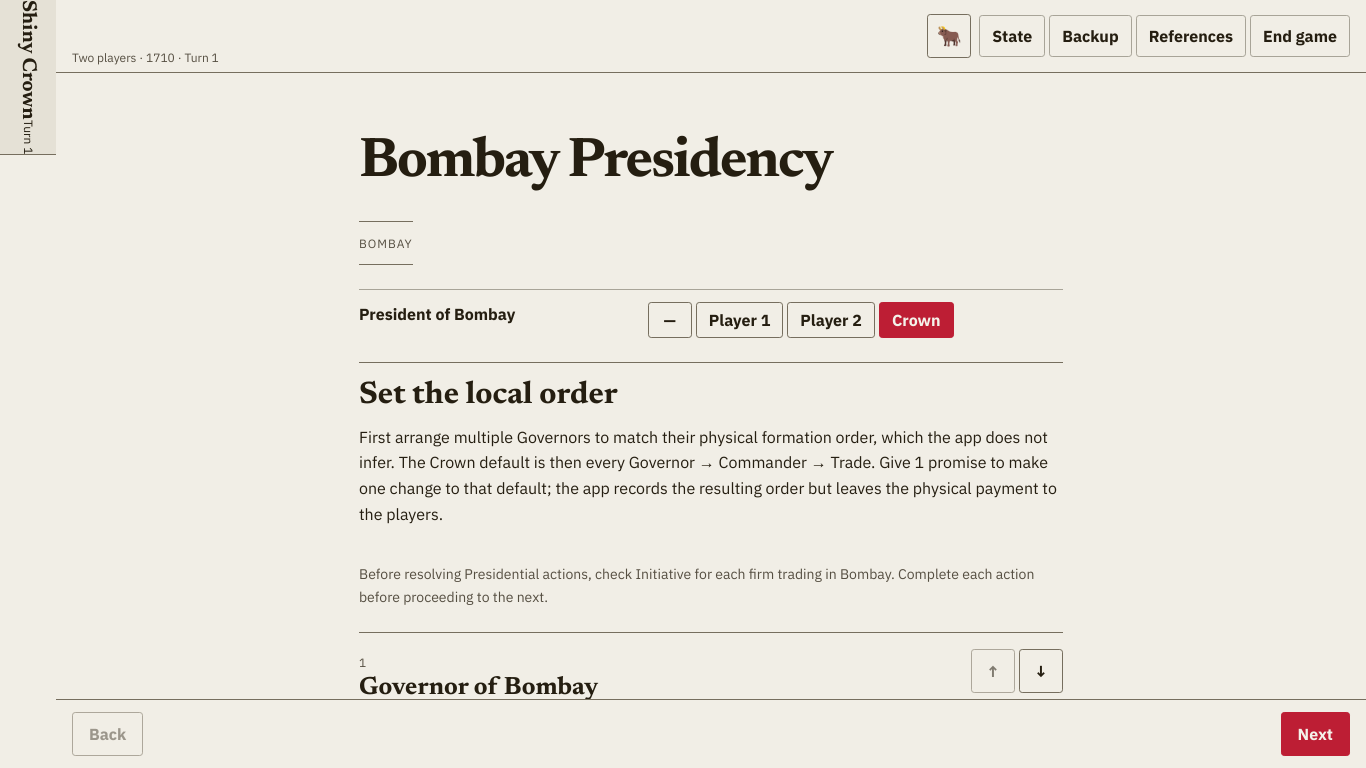
Scenario: Session 3 representative slices › persists Bombay local order and updates every Crown action from global climate
What coordinates should you click on to do the following:
click the button named "Move Governor of Bombay later"
I would click on:
 (1041, 671)
Its box is [1019,649,1063,693].
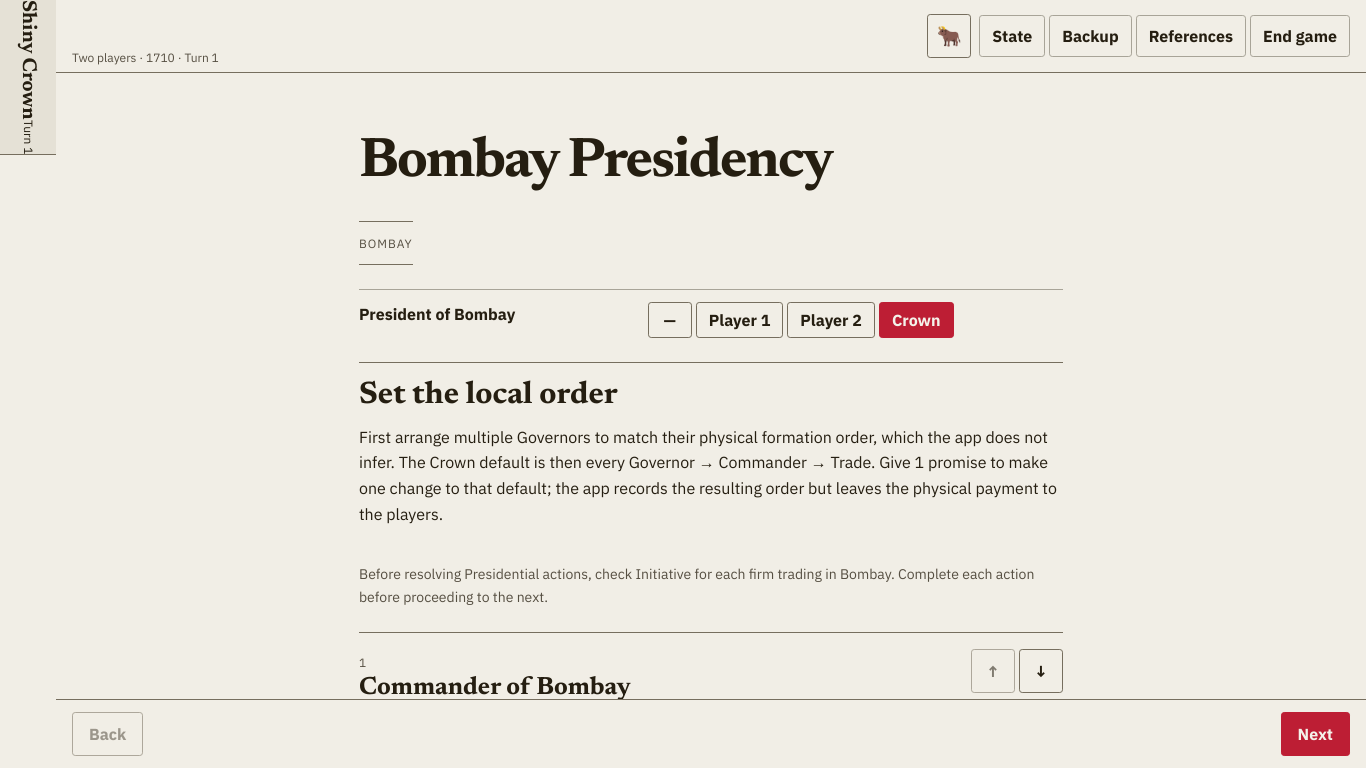
What coordinates should you click on to do the following:
click the button named "Crown climate: Bull"
I would click on:
 (949, 36)
Its box is [927,14,971,58].
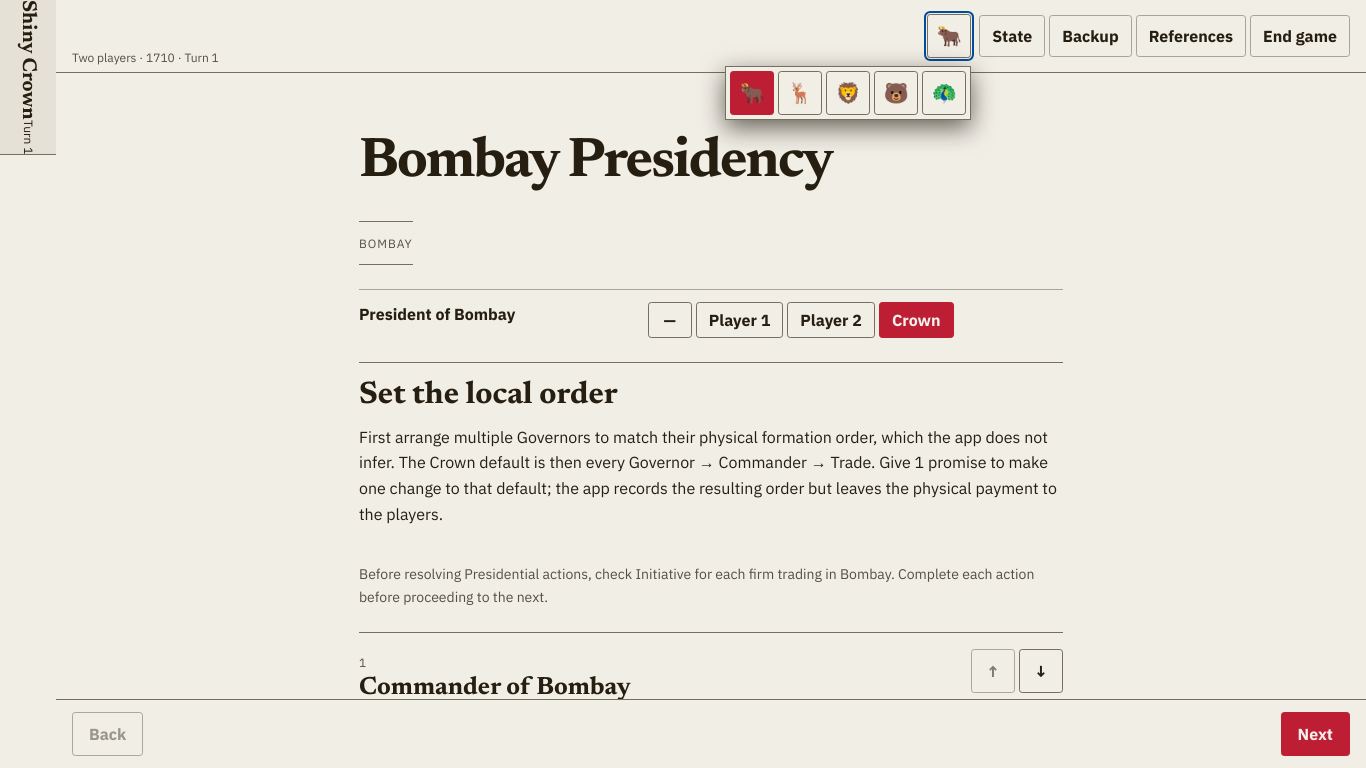
What coordinates should you click on to do the following:
click the button named "Peacock"
I would click on:
 (944, 93)
Its box is [922,71,966,115].
(page scrolled)
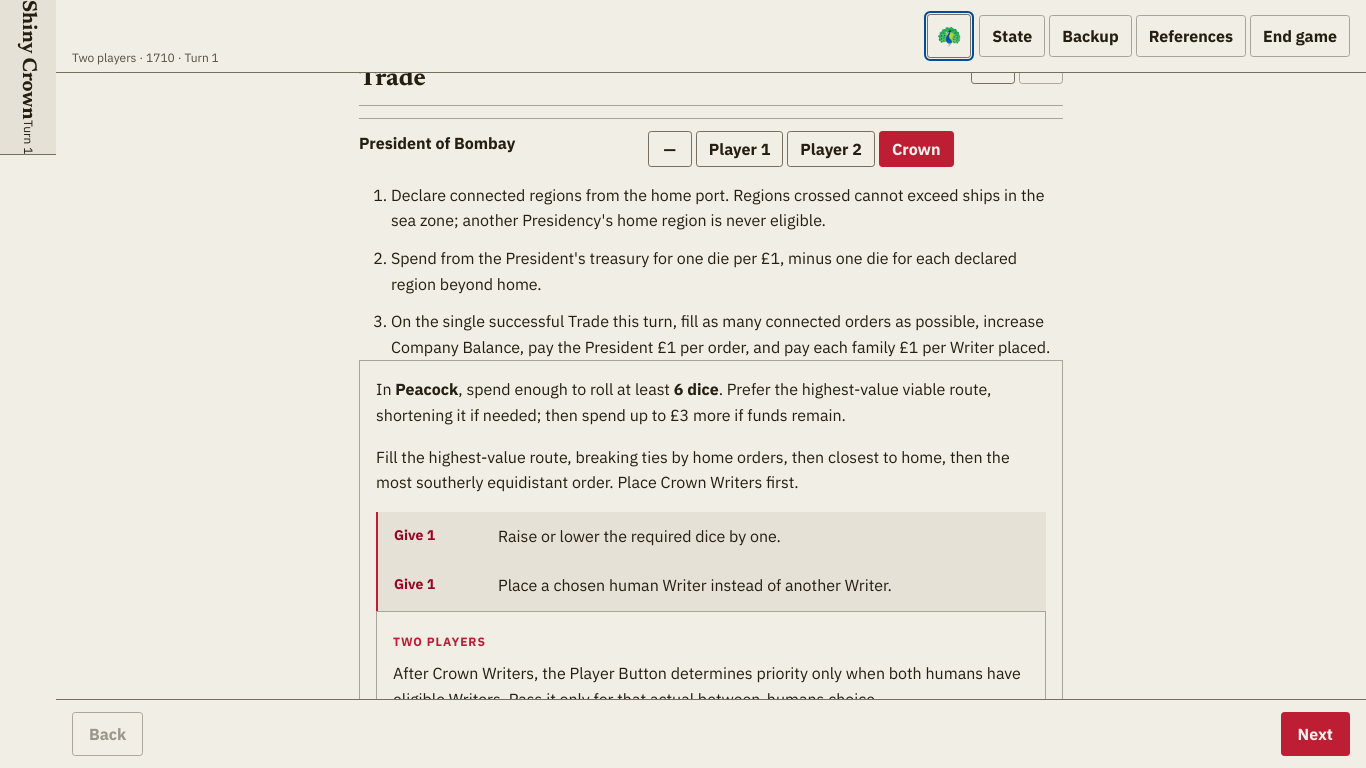
expect the element "Trade" shows "at least 6 dice": met, box [359,23,1063,747]
